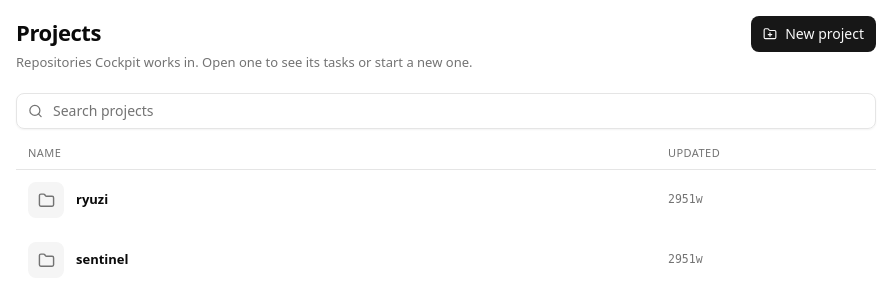
Test: lists every project and filters by the search box
Expected: the text "sentinel" is shown, x1=76 y1=250 x2=128 y2=270
Expected: the text "ryuzi" is shown, x1=76 y1=190 x2=108 y2=210
Type "sent" into the field with placeholder "Search projects" at [446, 110], box x1=16 y1=92 x2=876 y2=128
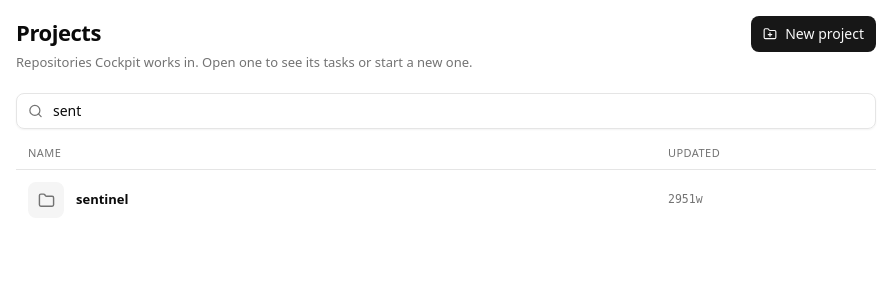
Expected: the text "sentinel" is shown, x1=76 y1=190 x2=128 y2=210
Result: the button "ryuzi" is gone
